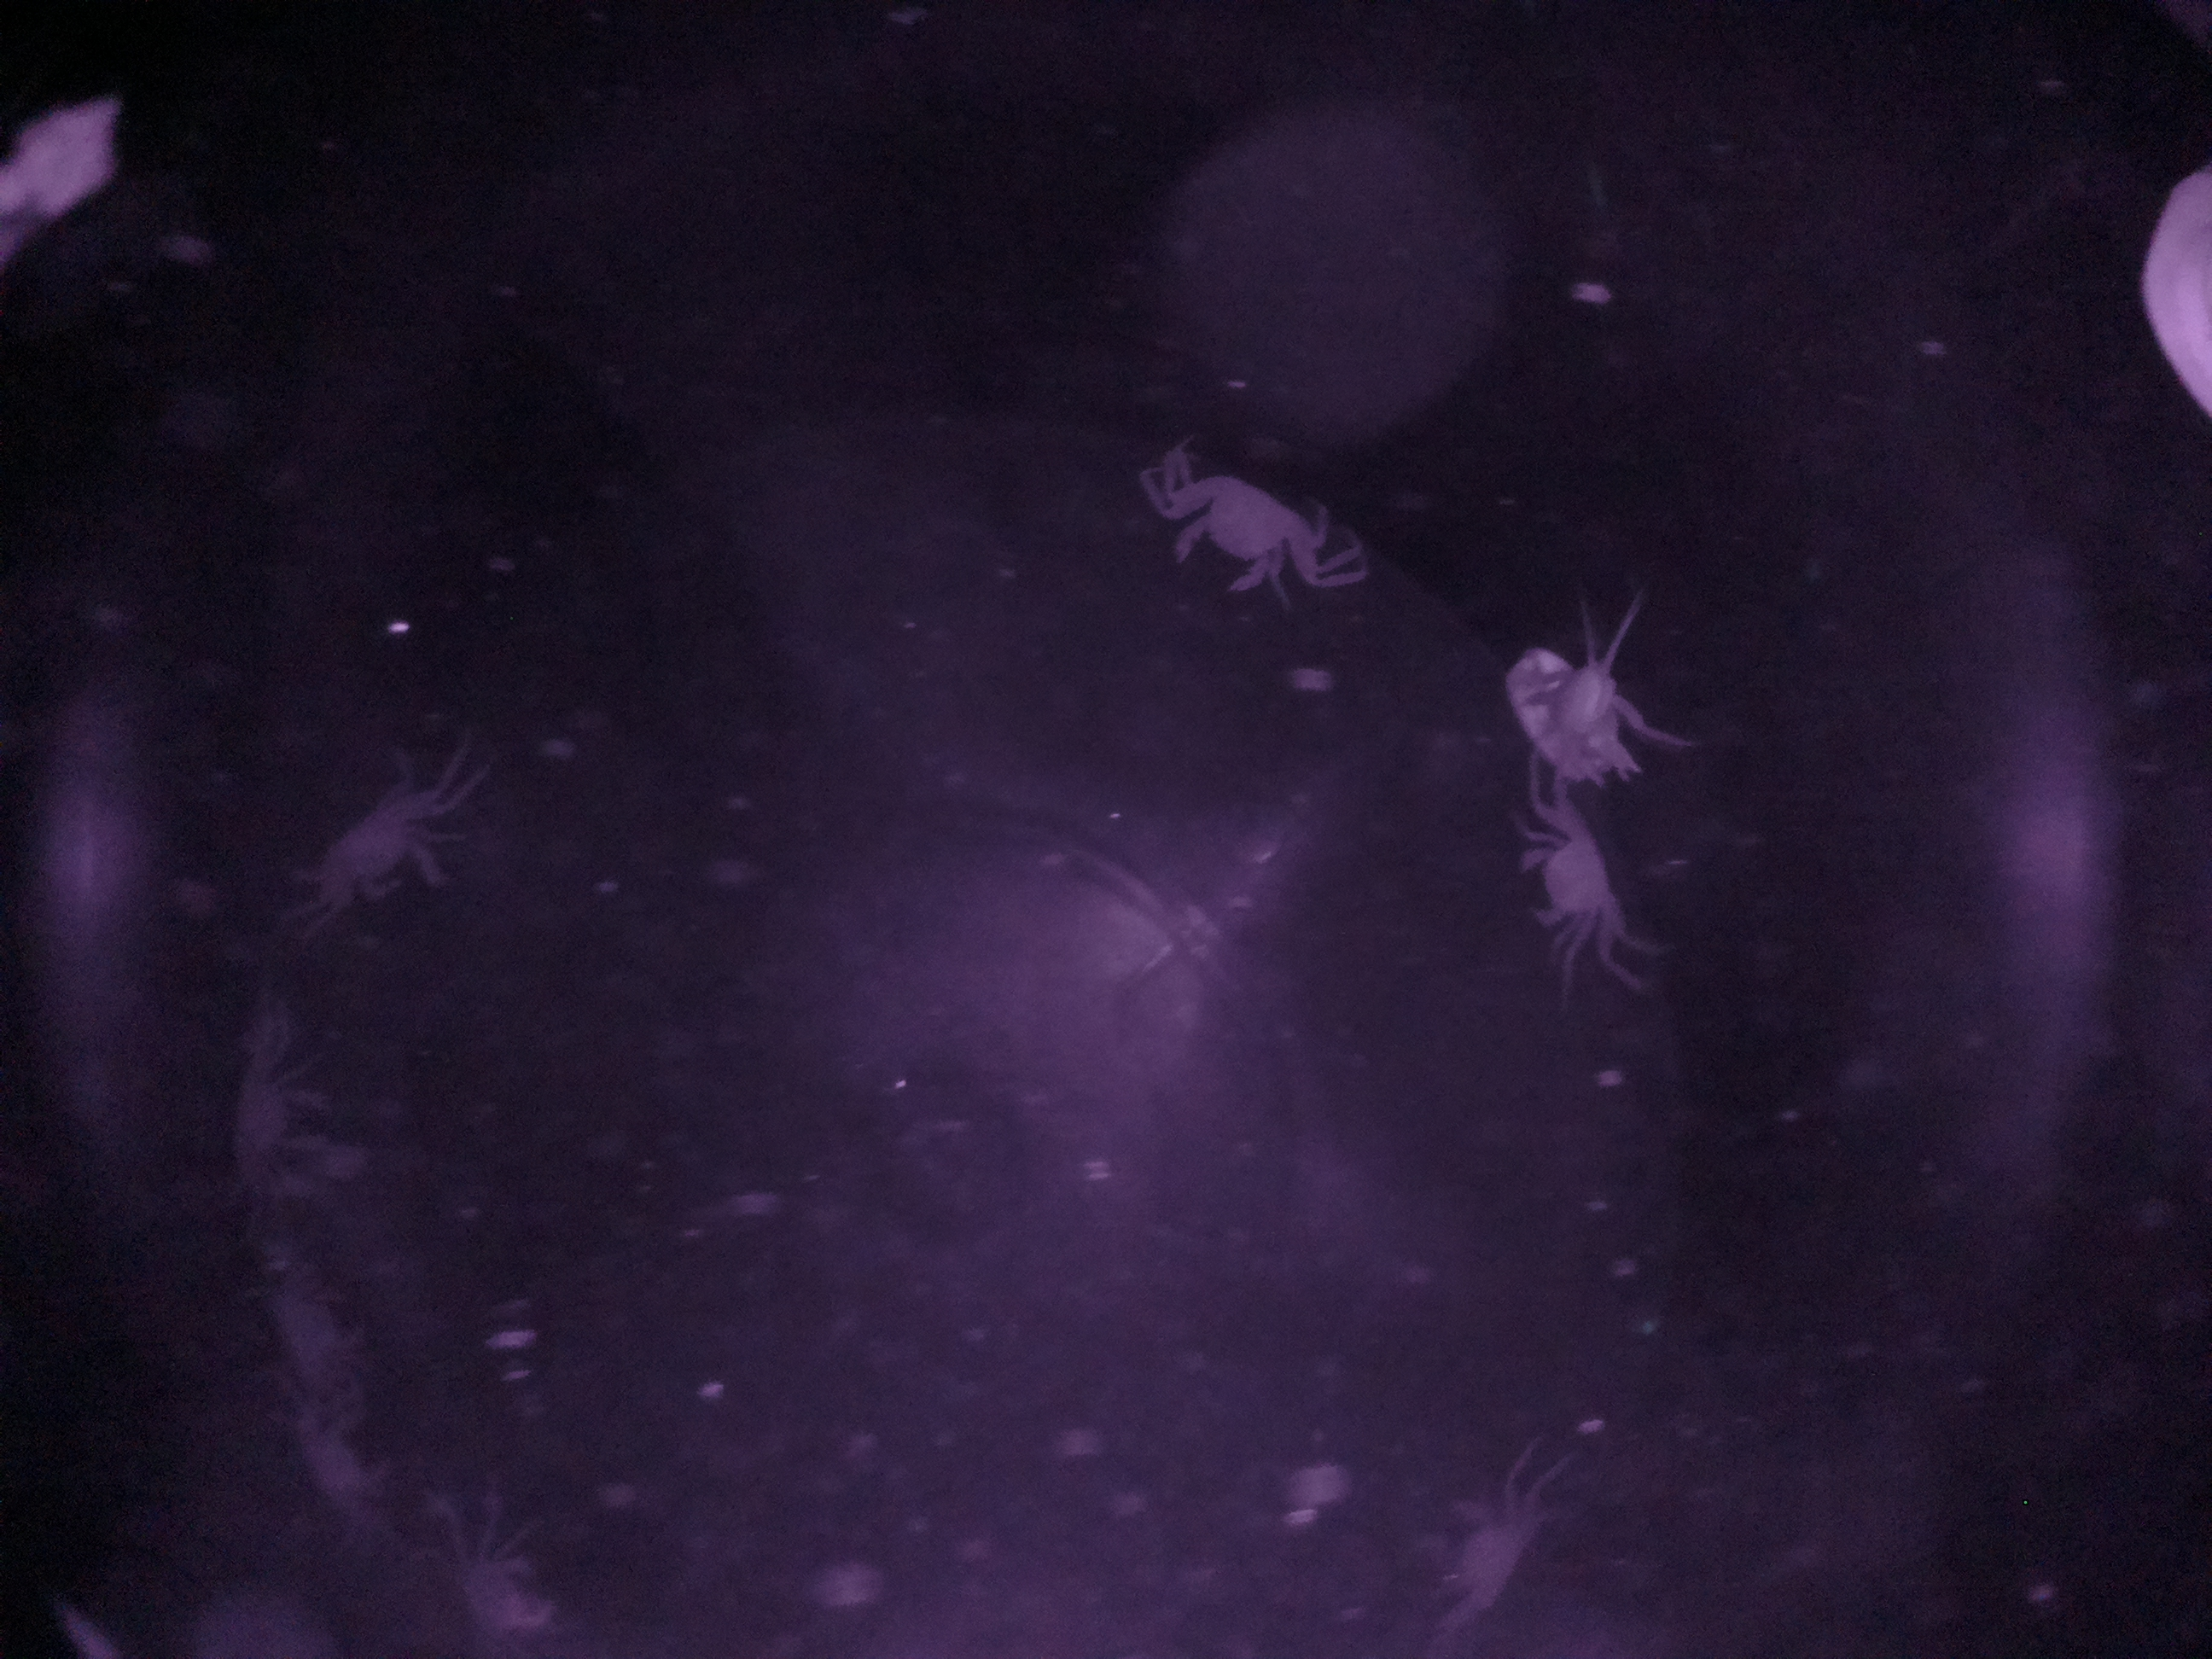Crab: (1139, 432, 1336, 627), (291, 755, 467, 932), (1496, 777, 1648, 983)
